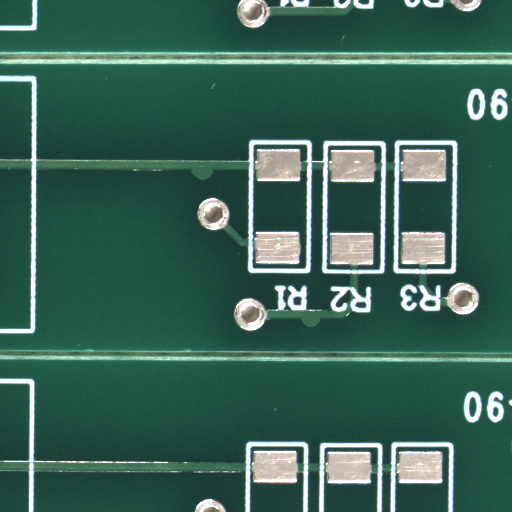Spur: (202, 173, 228, 184), (309, 322, 332, 334)
